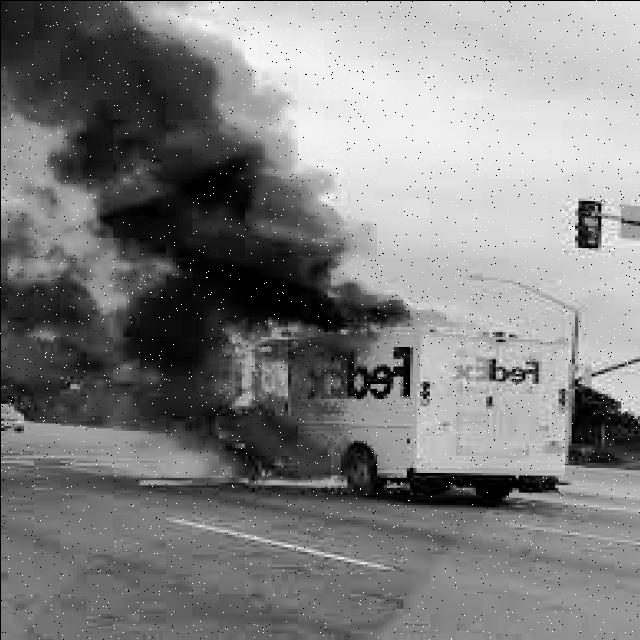api: (179, 288, 371, 490)
